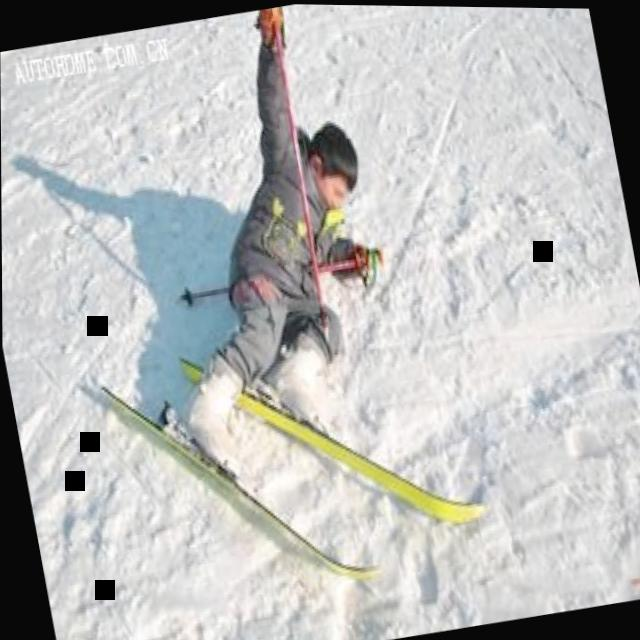Fall-Detected: (101, 1, 438, 504)
